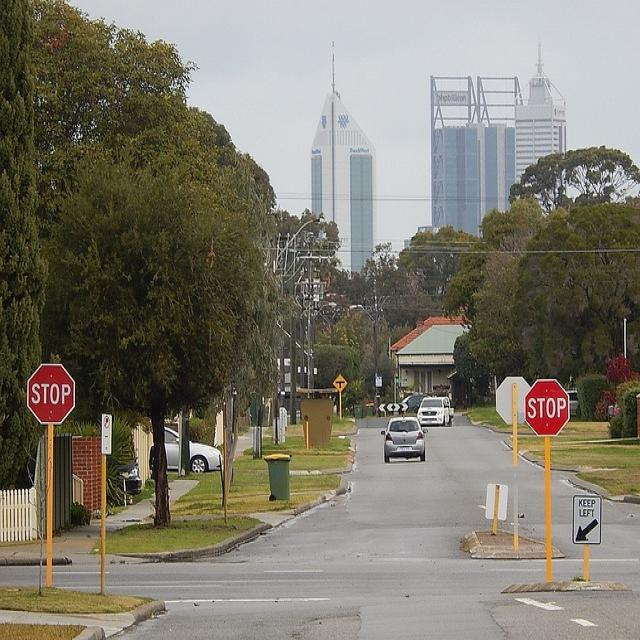ash bin: (264, 451, 292, 499)
car: (162, 426, 220, 472), (379, 413, 427, 462), (415, 394, 452, 426), (401, 393, 426, 411)
pole: (539, 435, 558, 583), (509, 382, 522, 547), (42, 423, 55, 585)
